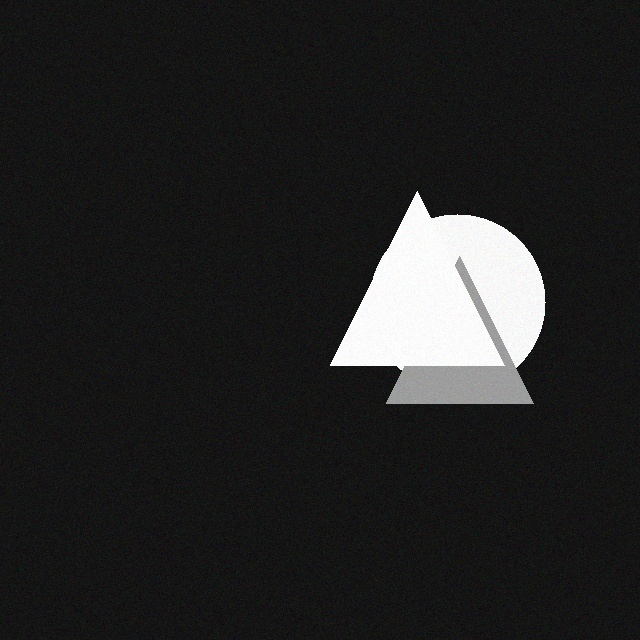circle: (354, 207, 530, 383)
triangle: (315, 184, 489, 358), (371, 249, 518, 396)
